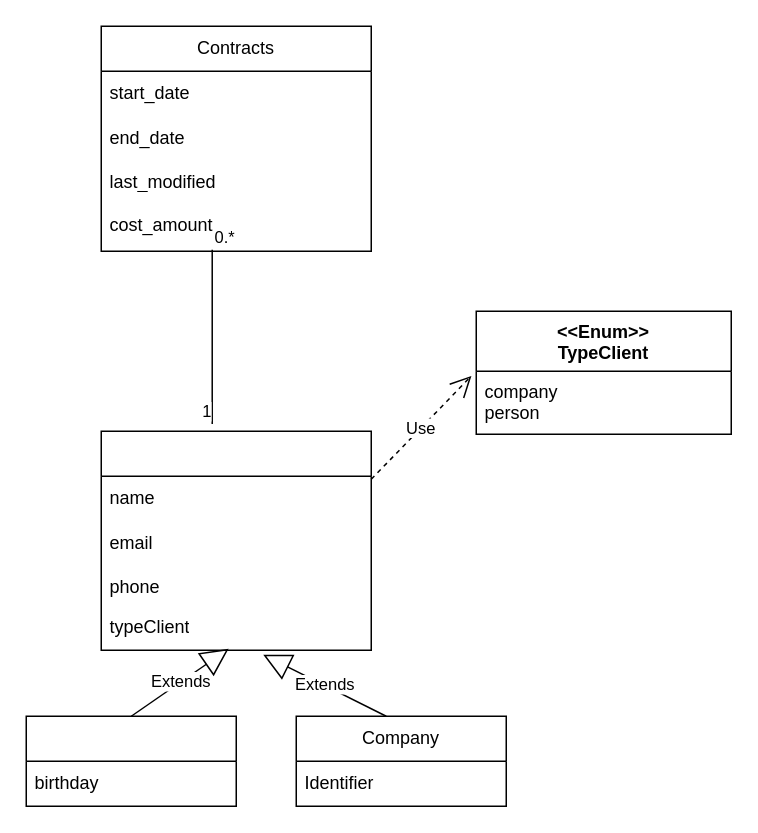
Image size: 758x833. Some labels were removed from this diagram. Here are the shapes that lost their labels. From the top down, the box of each, then its label:
(100, 430, 371, 650): Clients
(25, 715, 236, 806): Person
